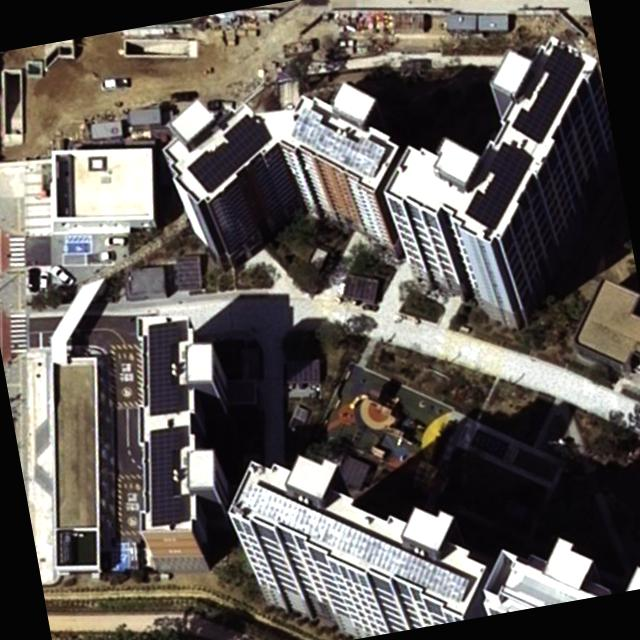solar: (238, 448, 476, 636), (498, 40, 598, 150), (285, 94, 391, 190), (454, 136, 544, 235), (180, 110, 279, 198), (132, 423, 198, 528), (133, 318, 194, 418)
